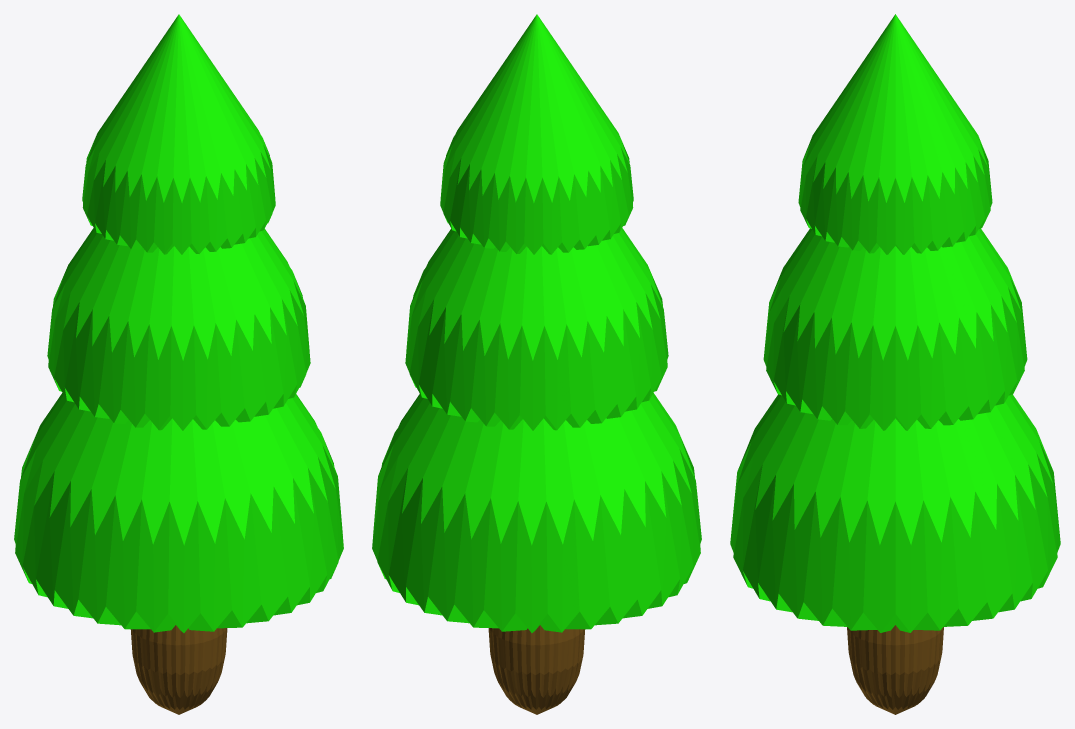
File: tree.fbx
3 renders of one model, left to right at view 1: azimuth 30°, elevation 25°; view 2: azimuth 150°, elevation 25°; view 3: azimuth 270°, elevation 25°, orthographic.
Visible parts, largest first — view 1: Cone, Cone.001, Cone.002, Cylinder; view 2: Cone, Cone.001, Cone.002, Cylinder; view 3: Cone, Cone.001, Cone.002, Cylinder.
Boxes of the visible parts, left/top/right/bottom form: Cone: left=14, top=393, right=343, bottom=632; Cone.001: left=47, top=228, right=310, bottom=430; Cone.002: left=82, top=14, right=275, bottom=254; Cylinder: left=130, top=625, right=227, bottom=714; Cone: left=372, top=393, right=701, bottom=632; Cone.001: left=405, top=228, right=668, bottom=430; Cone.002: left=440, top=14, right=633, bottom=254; Cylinder: left=488, top=625, right=585, bottom=714; Cone: left=730, top=394, right=1060, bottom=632; Cone.001: left=763, top=228, right=1027, bottom=430; Cone.002: left=798, top=14, right=992, bottom=254; Cylinder: left=847, top=625, right=943, bottom=714.
Bounding box in the file's own units: 319 × 747 × 319.
